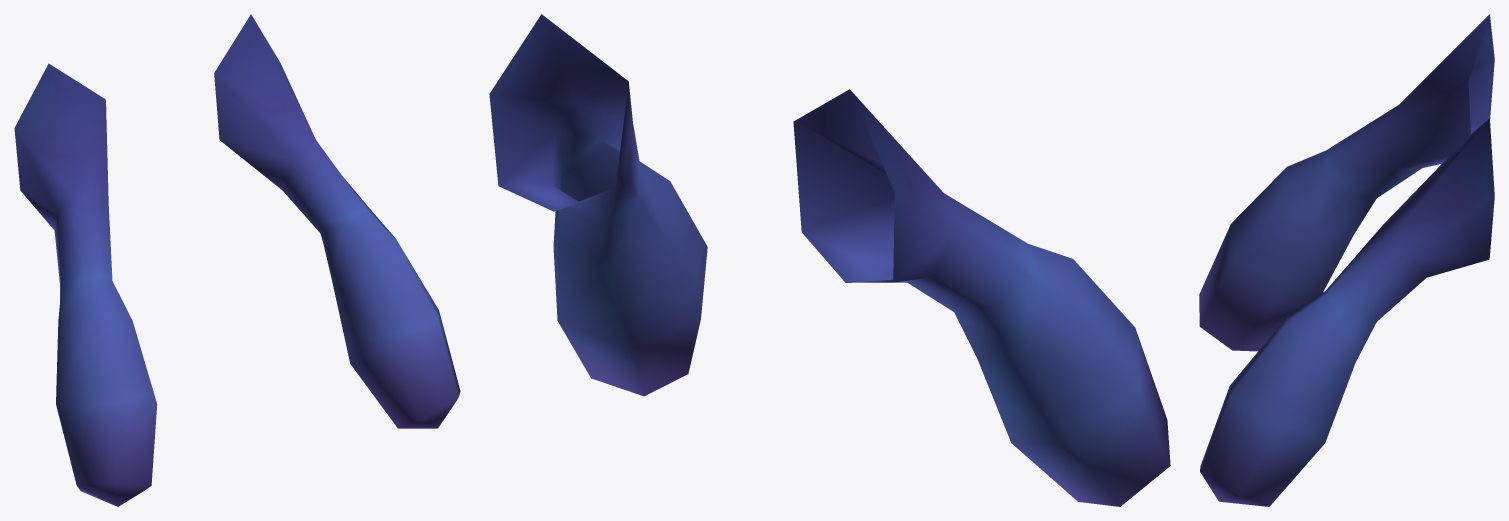
Rendered from hapy.fbx.
The picture shows the model from 3 angles, left to right: view 1: azimuth 30°, elevation 25°; view 2: azimuth 150°, elevation 25°; view 3: azimuth 270°, elevation 25°; orthographic projection. The views are drawn at different scales.
Visible parts, largest first — view 1: Object; view 2: Object; view 3: Object.
Part boxes in pixels (x1=…): Object: x1=14, y1=14, x2=460, y2=506; Object: x1=489, y1=14, x2=1170, y2=506; Object: x1=1199, y1=14, x2=1494, y2=506.
Bounding box in the file's own units: 11.47 × 9.71 × 7.24.
